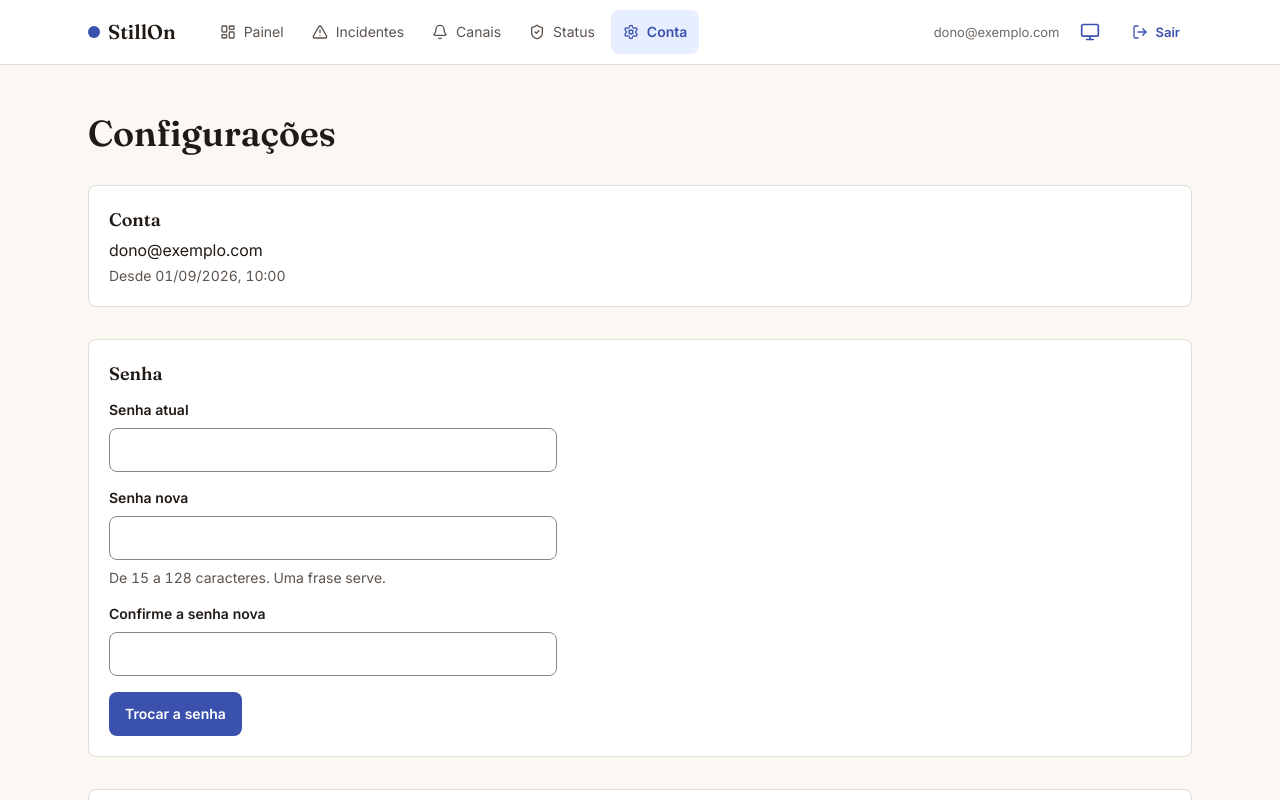
Test case: senha › troca e avisa que as outras sessões não podem iniciar novos acessos
In the password field labelled "Senha atual": {"x": 333, "y": 450} [109,428,557,472], type "uma senha bem comprida"
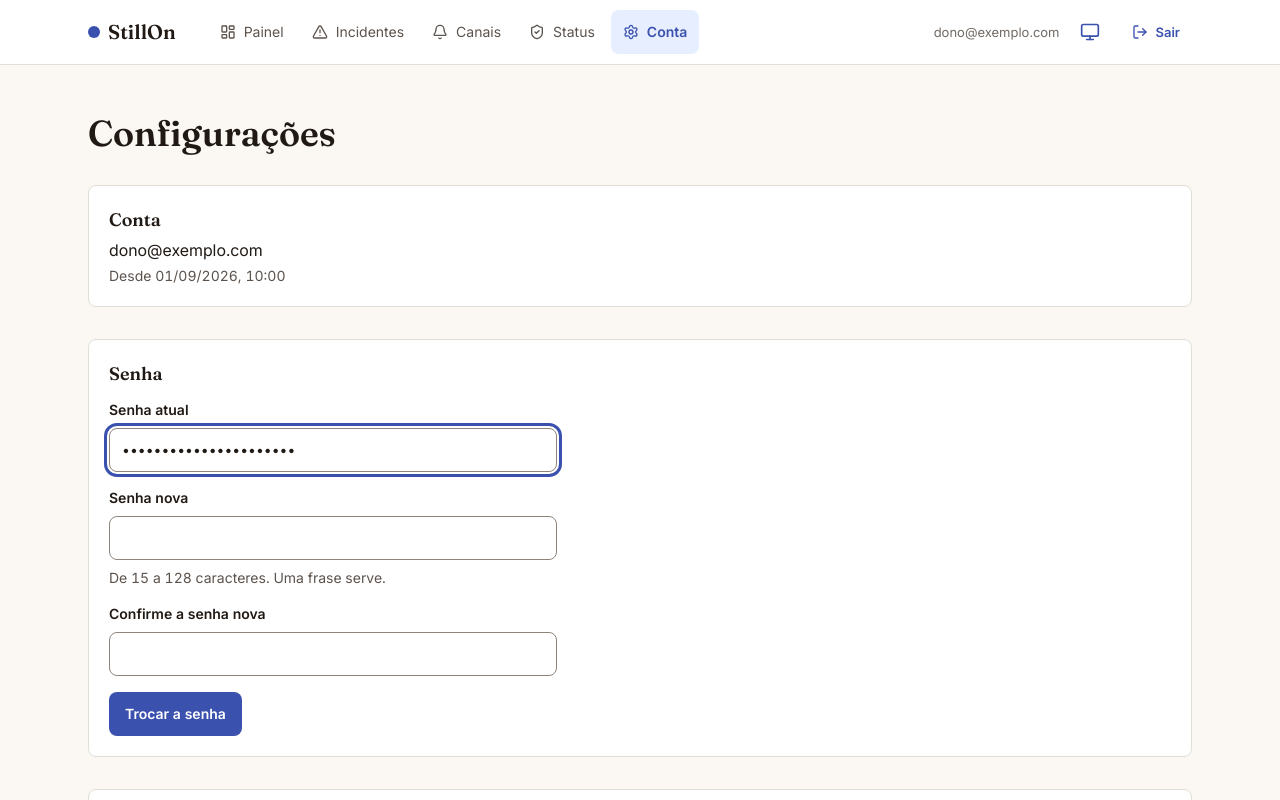
In the password field labelled "Senha nova": {"x": 333, "y": 538} [109,516,557,560], type "outra senha bem comprida"
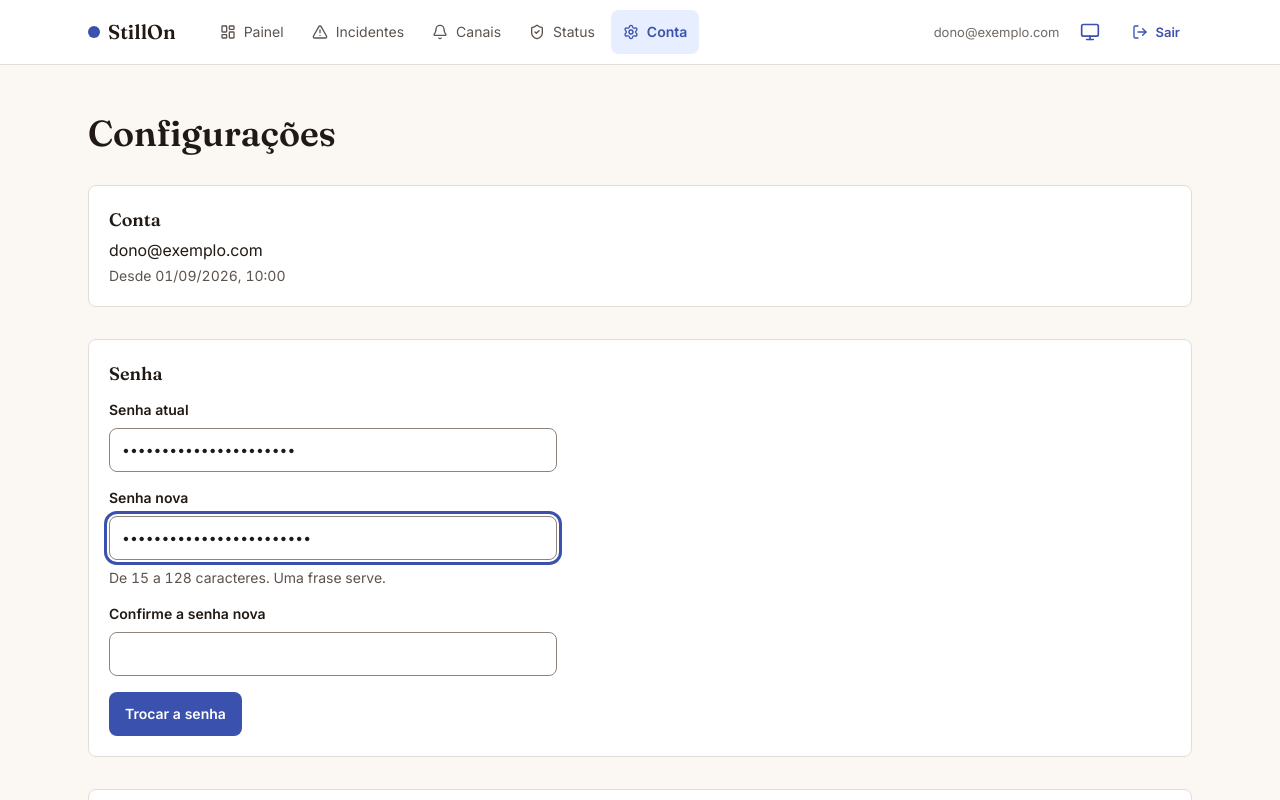
In the password field labelled "Confirme a senha nova": {"x": 333, "y": 654} [109,632,557,676], type "outra senha bem comprida"
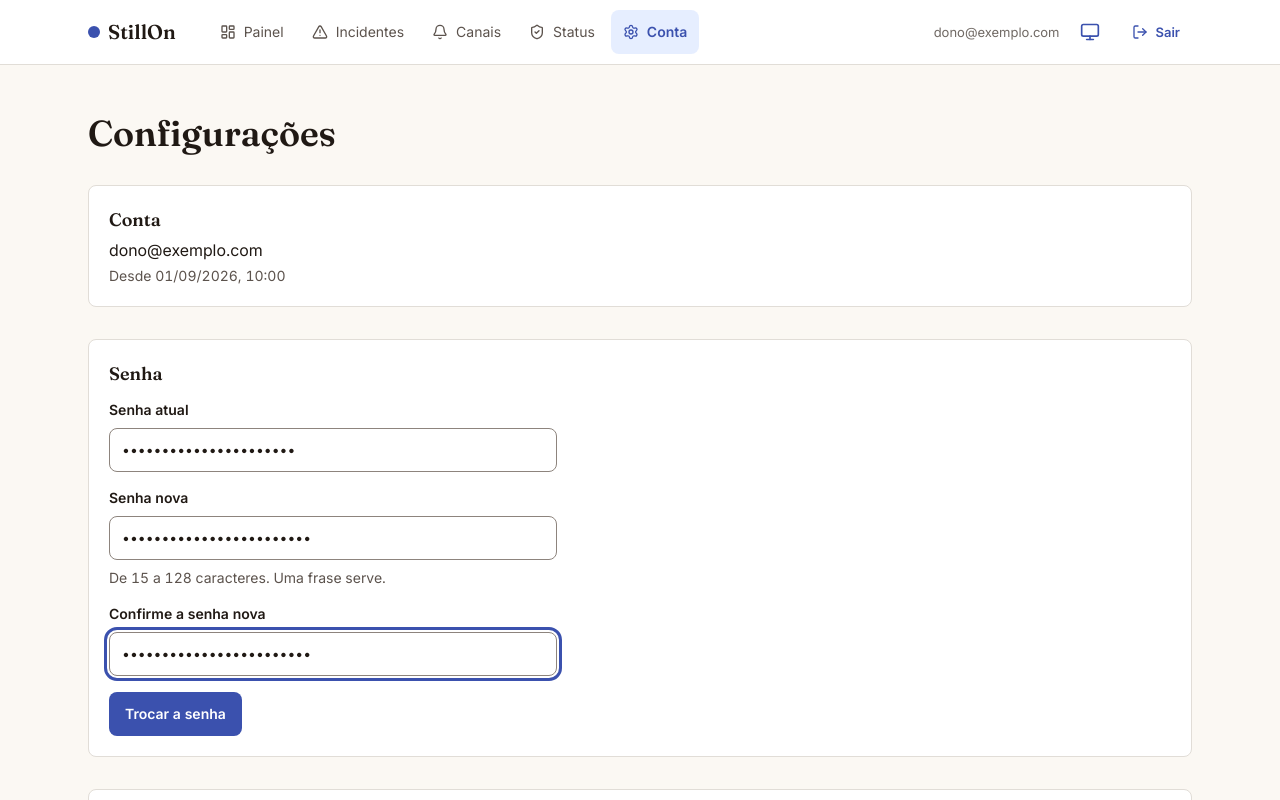
Click the button "Trocar a senha": {"x": 175, "y": 714} [109,692,242,736]
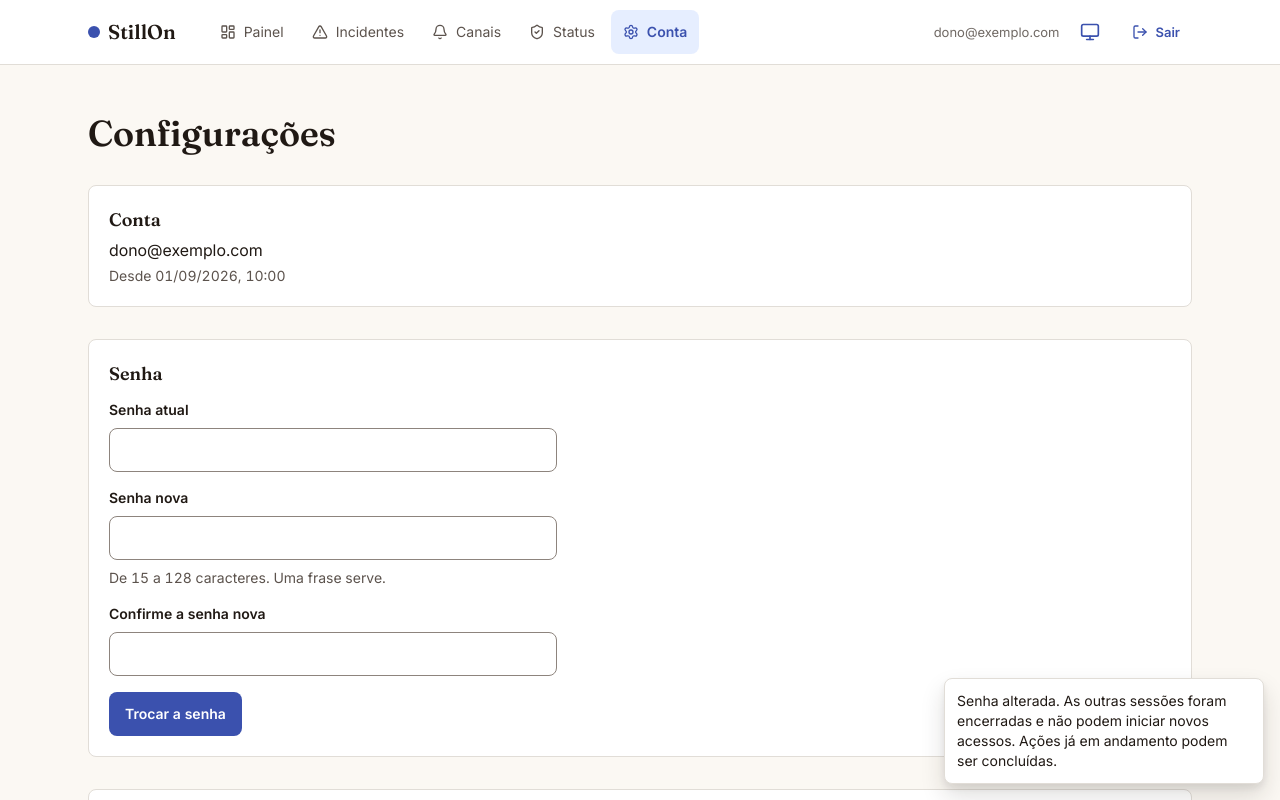
Expected: the text "As outras sessões foram encerradas e não podem iniciar novos acessos" shows "Ações já em andamento podem ser concluídas.", [957,692,1228,769]
